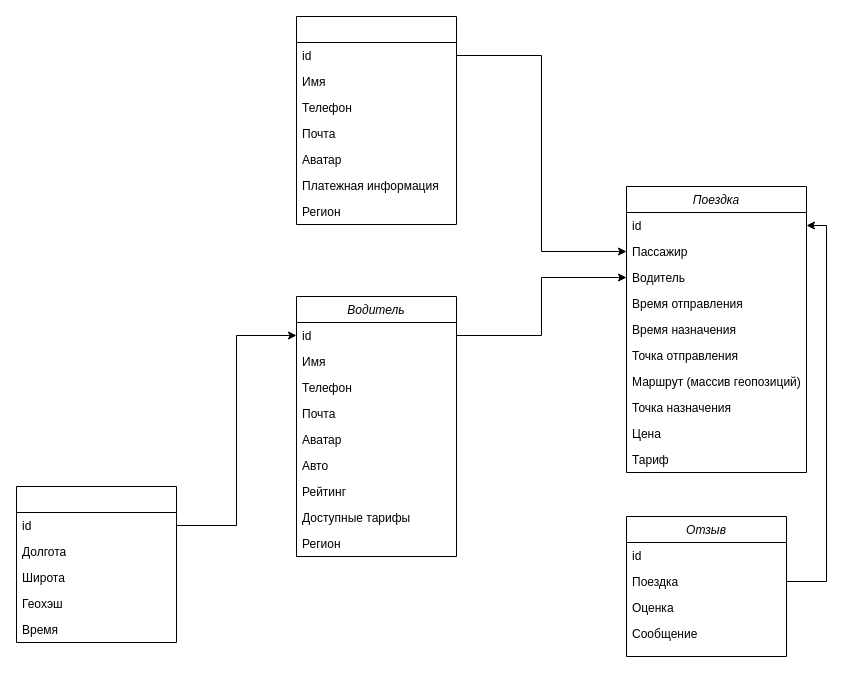
The diagram is 843 pixels wide and 673 high, and some of its shapes have lost their labels. The shapes that lost their labels are listed below. From the top down, each one's box as (x1, y1, x2, y2) in pixels, then its label:
(296, 16, 456, 224): Пользователь
(16, 486, 176, 642): Геопозиция водителя
